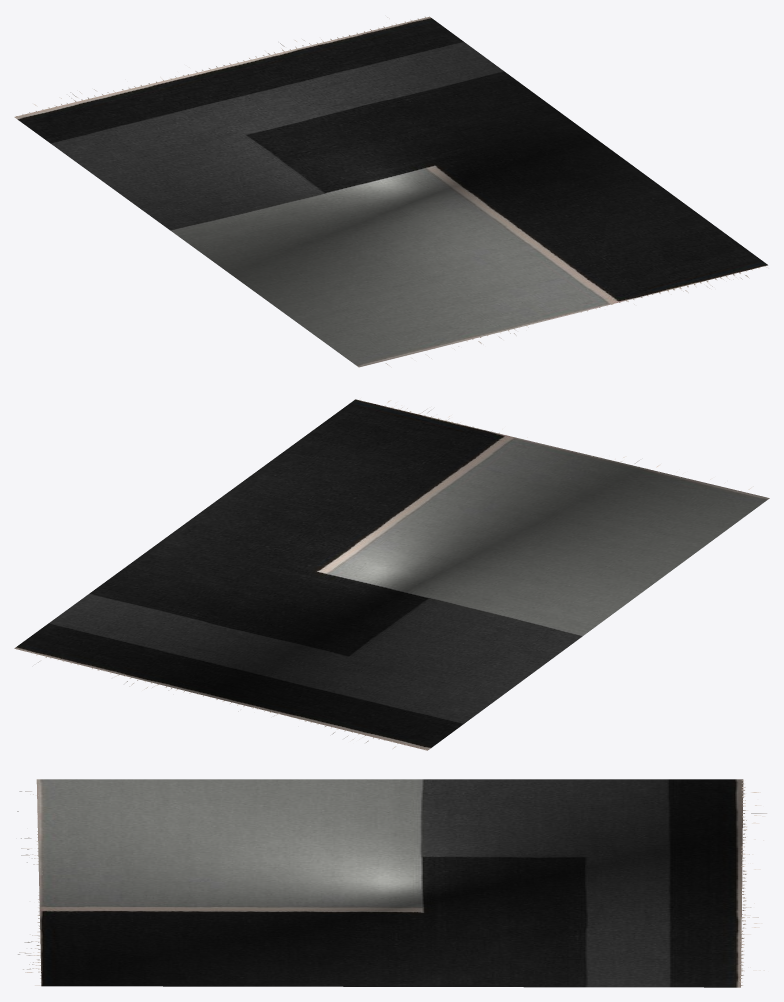
The model's file is Kelim_Rug.glb.
3 views of the same model, one above another, from view 1: azimuth 30°, elevation 25°; view 2: azimuth 150°, elevation 25°; view 3: azimuth 270°, elevation 25° (orthographic). The views are drawn at different scales.
Parts seen in each view (by area): view 1: BP_Kelim_Rug; view 2: BP_Kelim_Rug; view 3: BP_Kelim_Rug.
Boxes of the visible parts, x1,y1,x2,y2 form: BP_Kelim_Rug: (14, 16, 768, 367); BP_Kelim_Rug: (14, 399, 769, 750); BP_Kelim_Rug: (17, 779, 766, 987).
Size of the model in its own units: 1.39 by 0.00491 by 2.14.
Materials: 1 (1 with a texture image).
